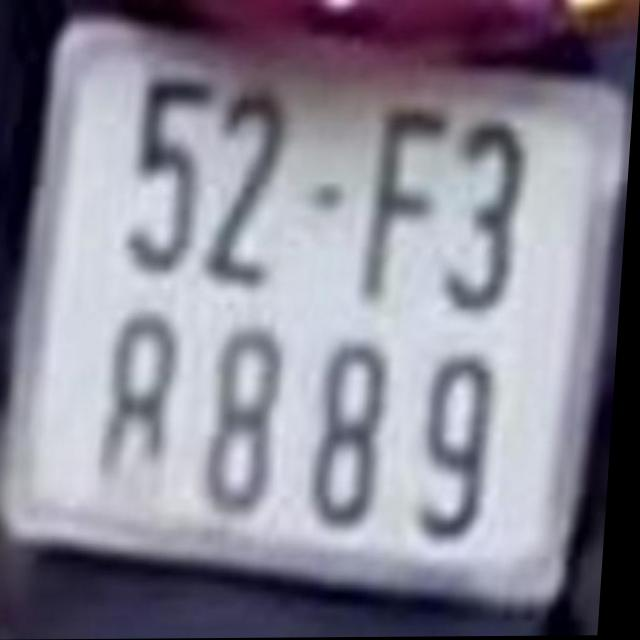2: (210, 89, 294, 289)
3: (448, 119, 529, 314)
5: (135, 77, 210, 275)
8: (98, 307, 188, 507), (211, 323, 291, 516), (314, 338, 396, 524)
9: (421, 353, 503, 547)
F: (366, 107, 449, 307)
